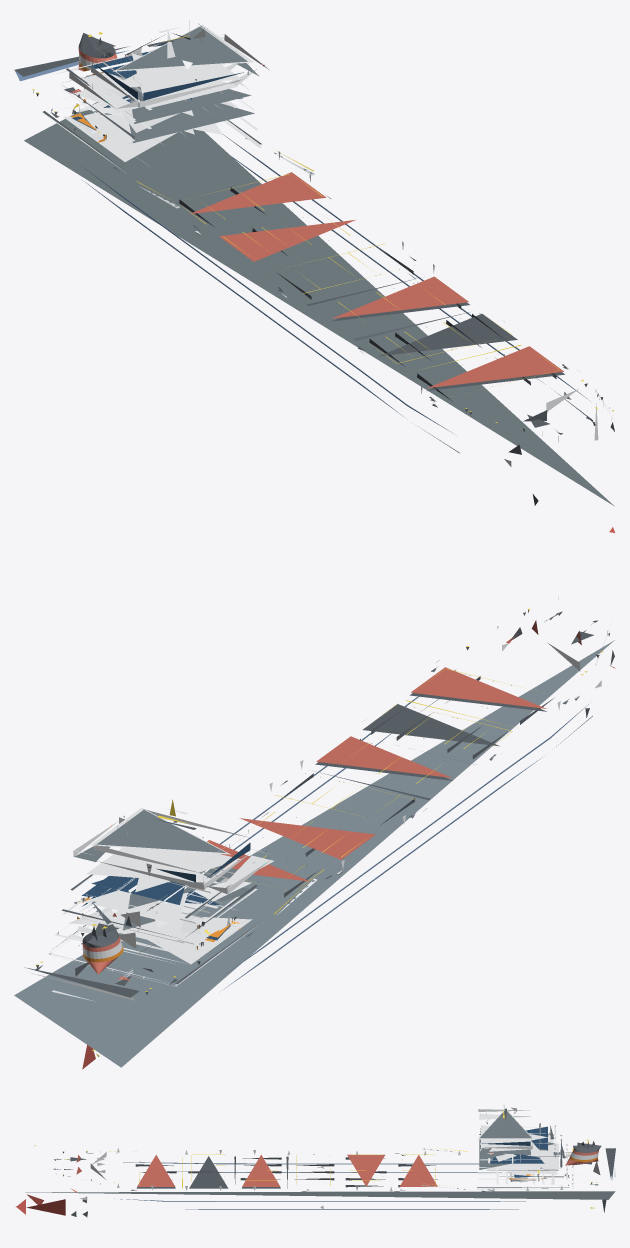
Rendered from ship_16.glb.
3 renders of one model, top to bottom at view 1: azimuth 30°, elevation 25°; view 2: azimuth 150°, elevation 25°; view 3: azimuth 270°, elevation 25°, orthographic. The views are drawn at different scales.
Parts seen in each view (by area): view 1: TrueHelm_Ship_16; view 2: TrueHelm_Ship_16; view 3: TrueHelm_Ship_16.
Boxes of the visible parts, x1,y1,x2,y2 form: TrueHelm_Ship_16: (14,20,614,532); TrueHelm_Ship_16: (14,596,615,1069); TrueHelm_Ship_16: (16,1104,615,1217).
Bounding box in the file's own units: 0.1307 × 0.1693 × 0.7909.
